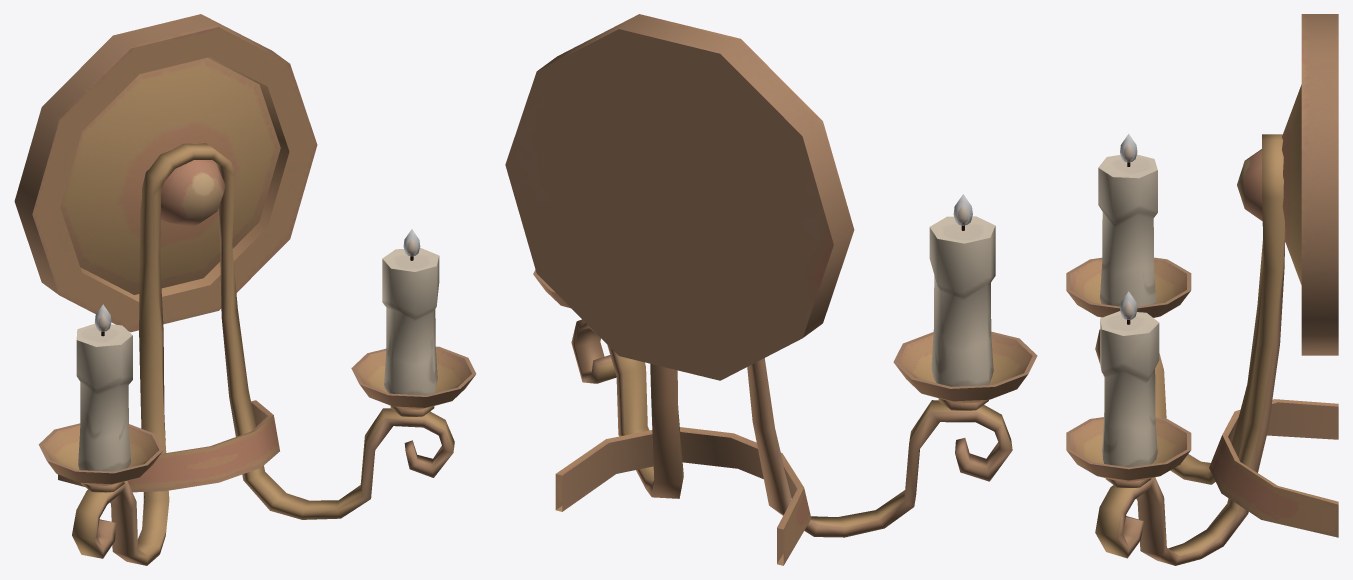
The model's file is light1.FBX.
3 views of the same model, side by side, from view 1: azimuth 30°, elevation 25°; view 2: azimuth 150°, elevation 25°; view 3: azimuth 270°, elevation 25° (orthographic). The views are drawn at different scales.
Visible parts, largest first — view 1: Cylinder027, Object013; view 2: Cylinder027; view 3: Cylinder027, Object013.
Part boxes in pixels (x1=…): Cylinder027: x1=14, y1=14, x2=476, y2=565; Object013: x1=95, y1=229, x2=420, y2=331; Cylinder027: x1=505, y1=14, x2=1037, y2=565; Cylinder027: x1=1066, y1=14, x2=1338, y2=565; Object013: x1=1120, y1=134, x2=1137, y2=319.
Size of the model in its own units: 18.13 by 9.7 by 18.83.
